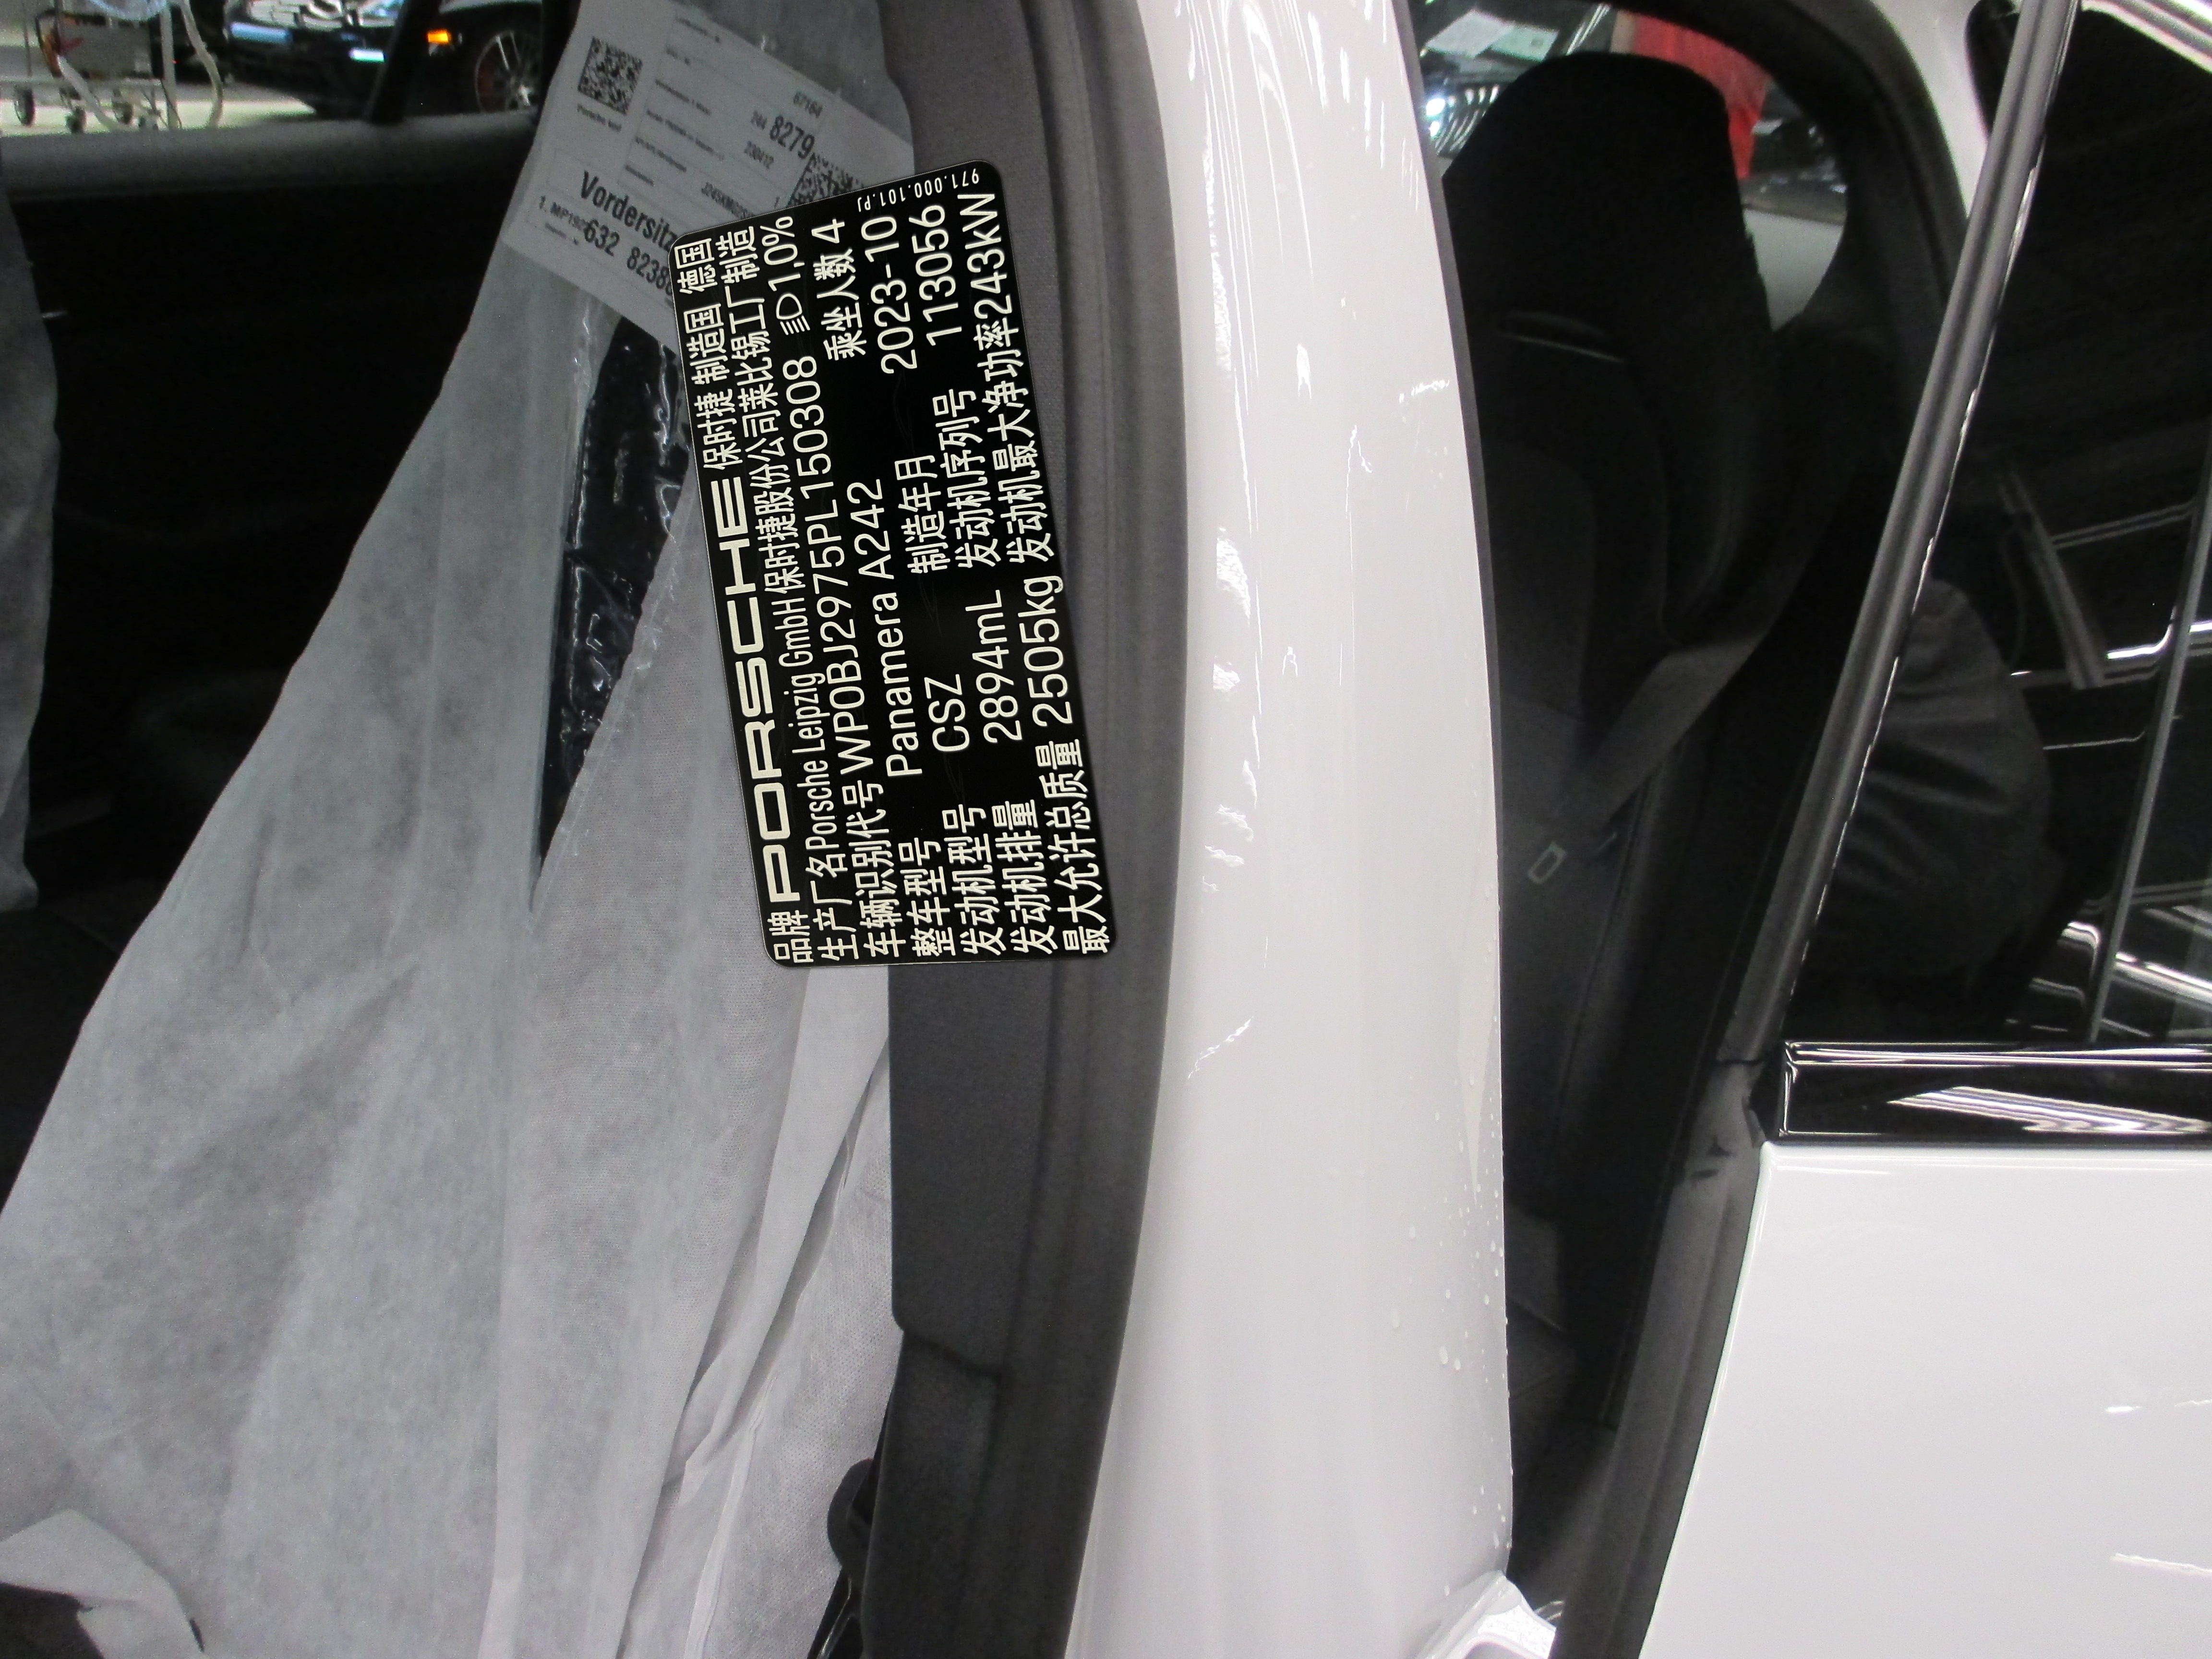Typlabel-China: (669, 160, 1116, 967)
